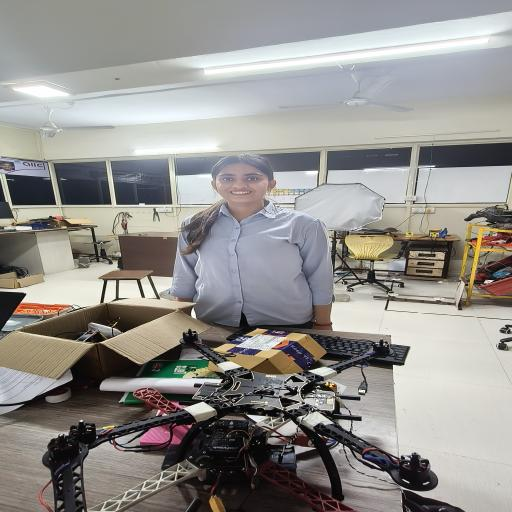survivor: (170, 153, 336, 330)
